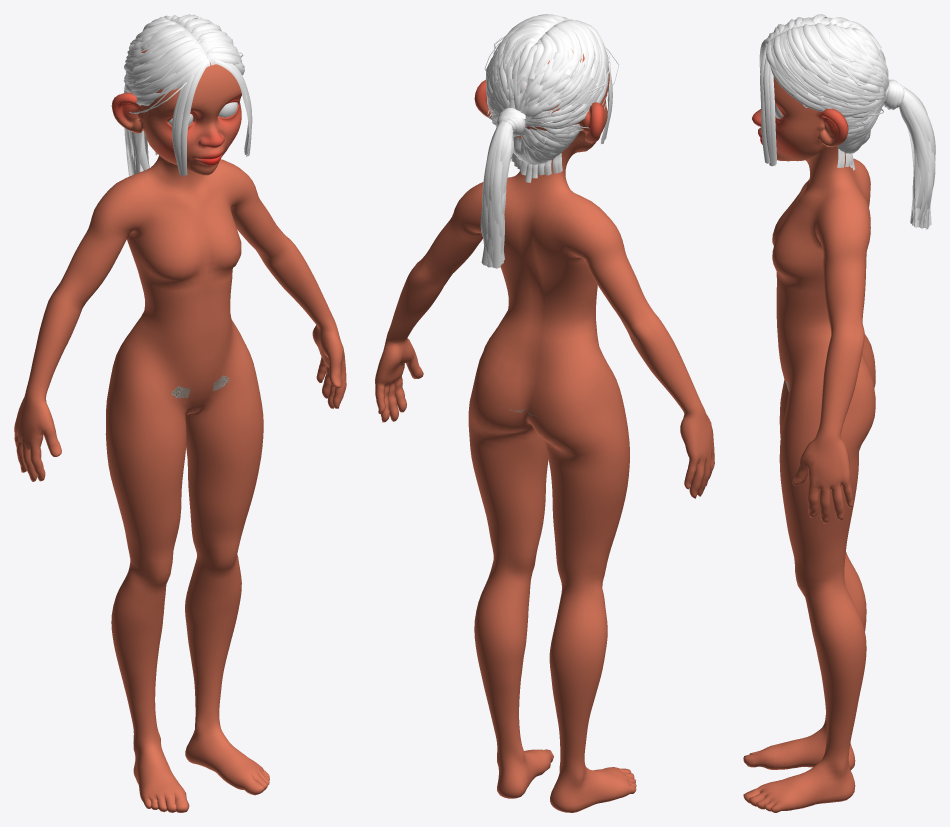
The model's file is CHRACTER.glb.
The picture shows the model from 3 angles, left to right: view 1: azimuth 30°, elevation 25°; view 2: azimuth 150°, elevation 25°; view 3: azimuth 270°, elevation 25°; orthographic projection. The views are drawn at different scales.
Visible parts, largest first — view 1: GIRL, HAIR; view 2: GIRL, HAIR; view 3: GIRL, HAIR.
Boxes of the visible parts, x1,y1,x2,y2 form: GIRL: (14,49,346,812); HAIR: (123,14,252,176); GIRL: (375,40,714,812); HAIR: (480,14,618,268); GIRL: (743,76,875,812); HAIR: (759,14,935,229).
Bounding box in the file's own units: 0.7209 × 1.63 × 0.3715.
8 materials, 2 textured.
